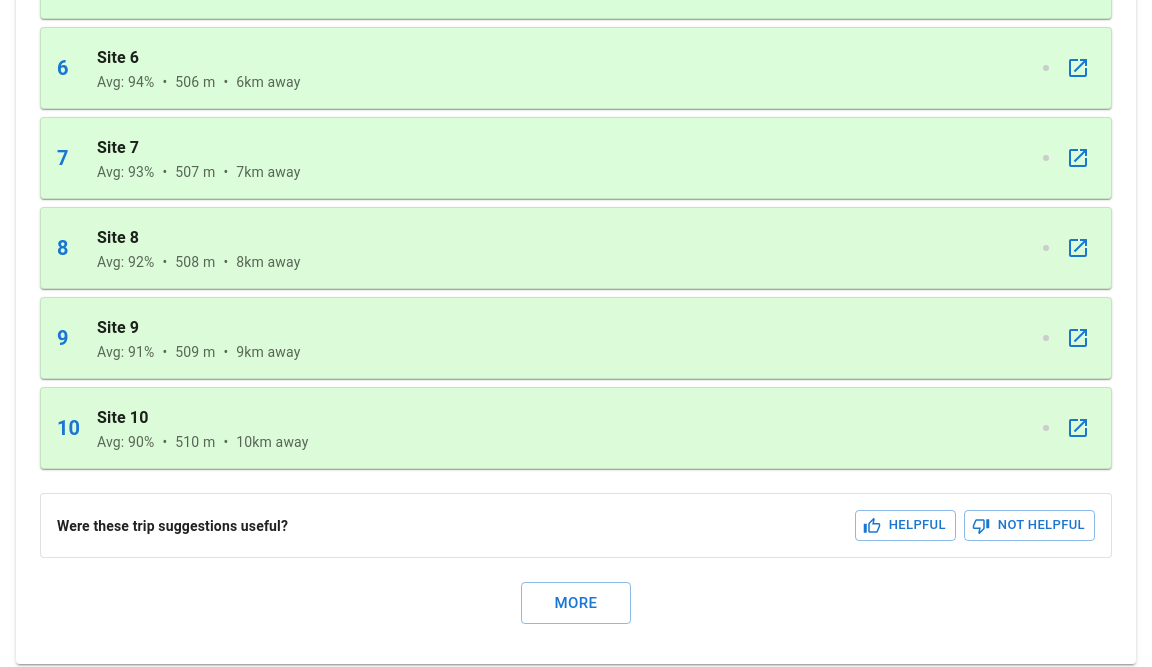
it: TripPlannerPage › requests the next offset, appends results, and can collapse them again
(page scrolled)
Click the button "More".
click(576, 603)  # box [522, 582, 631, 624]
(page scrolled)
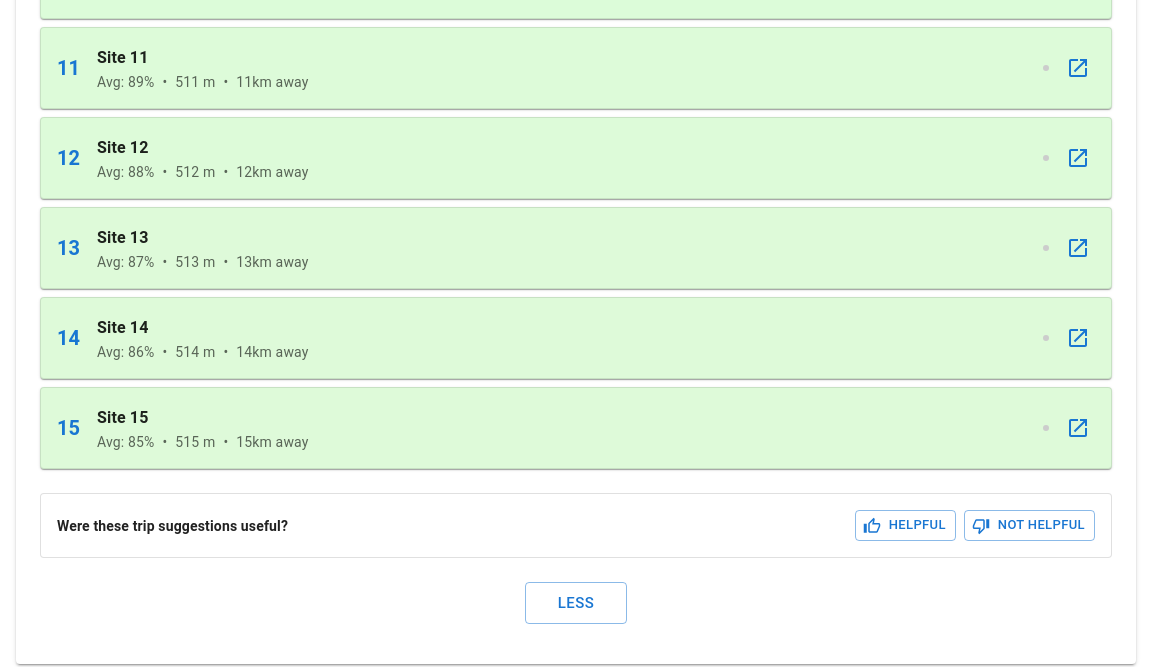
Now the heading "Site 15" is shown, box [97, 408, 148, 427]
Click the button "Less".
click(576, 603)  # box [525, 582, 627, 624]
(page scrolled)
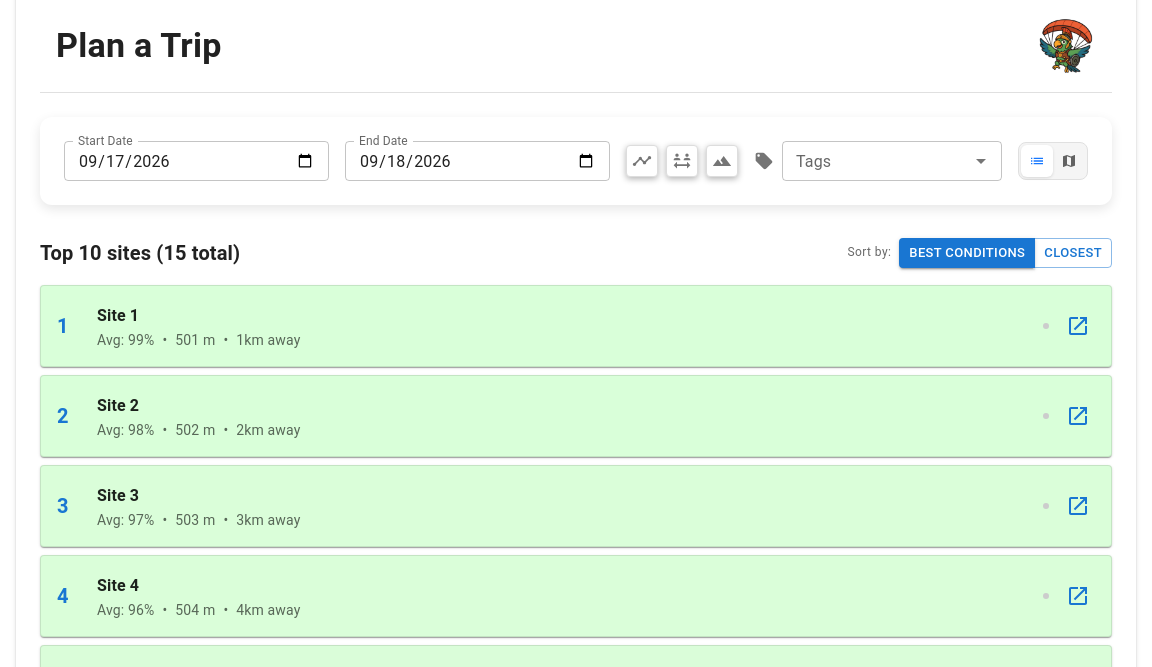
Now the button "Site 11" is gone
Now the heading "Top 10 sites (15 total)" is shown, box [40, 237, 240, 269]
